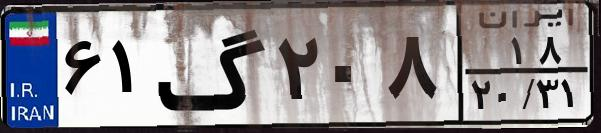0: (330, 28, 385, 110), (495, 70, 520, 125)
1: (110, 28, 156, 98), (560, 70, 590, 125), (508, 27, 537, 80)
2: (270, 28, 330, 110), (470, 70, 495, 125)
3: (535, 70, 560, 125)
6: (57, 26, 110, 100)
8: (385, 28, 445, 110), (537, 27, 568, 80)
گ: (156, 12, 270, 120)
